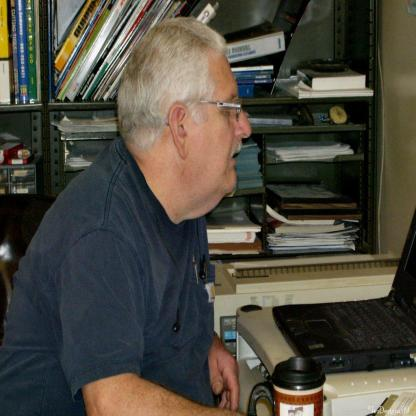board: (272, 207, 416, 374)
